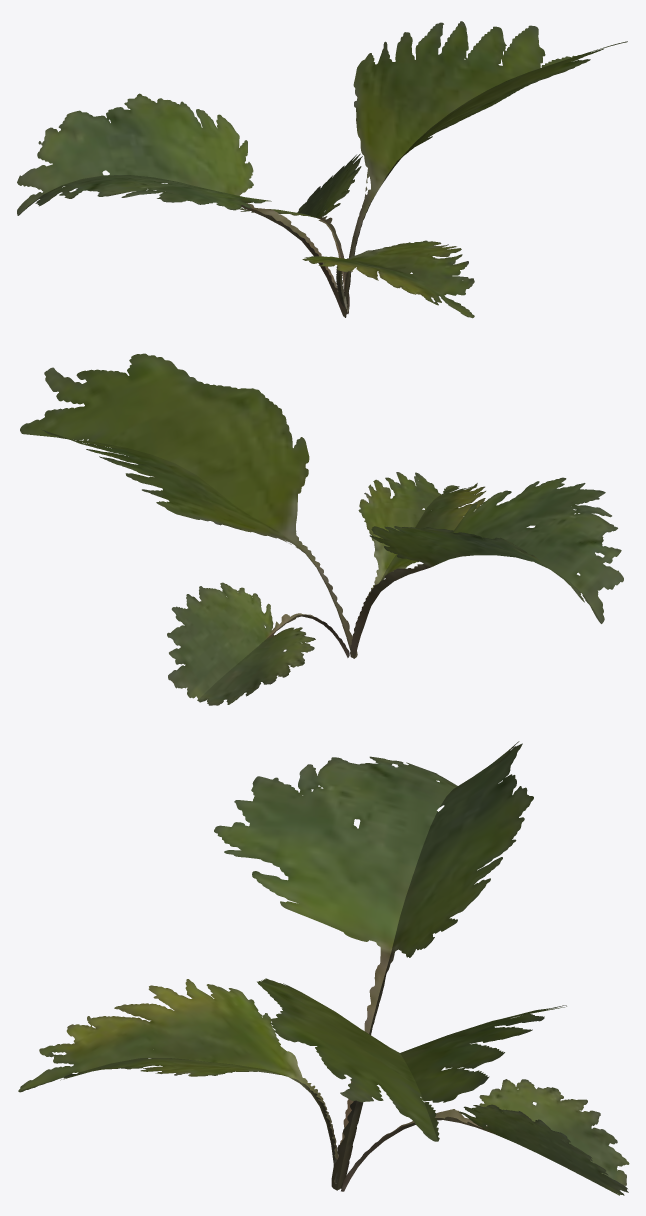
3 renders of one model, top to bottom at view 1: azimuth 30°, elevation 25°; view 2: azimuth 150°, elevation 25°; view 3: azimuth 270°, elevation 25°, orthographic. The views are drawn at different scales.
Visible parts, largest first — view 1: nettle_plant__b_lod0; view 2: nettle_plant__b_lod0; view 3: nettle_plant__b_lod0.
Boxes of the visible parts, x1,y1,x2,y2 form: nettle_plant__b_lod0: (17,21,627,318); nettle_plant__b_lod0: (20,353,623,705); nettle_plant__b_lod0: (18,741,629,1195).
Size of the model in its own units: 0.0597 by 0.0217 by 0.0385.
1 material, 1 textured.
